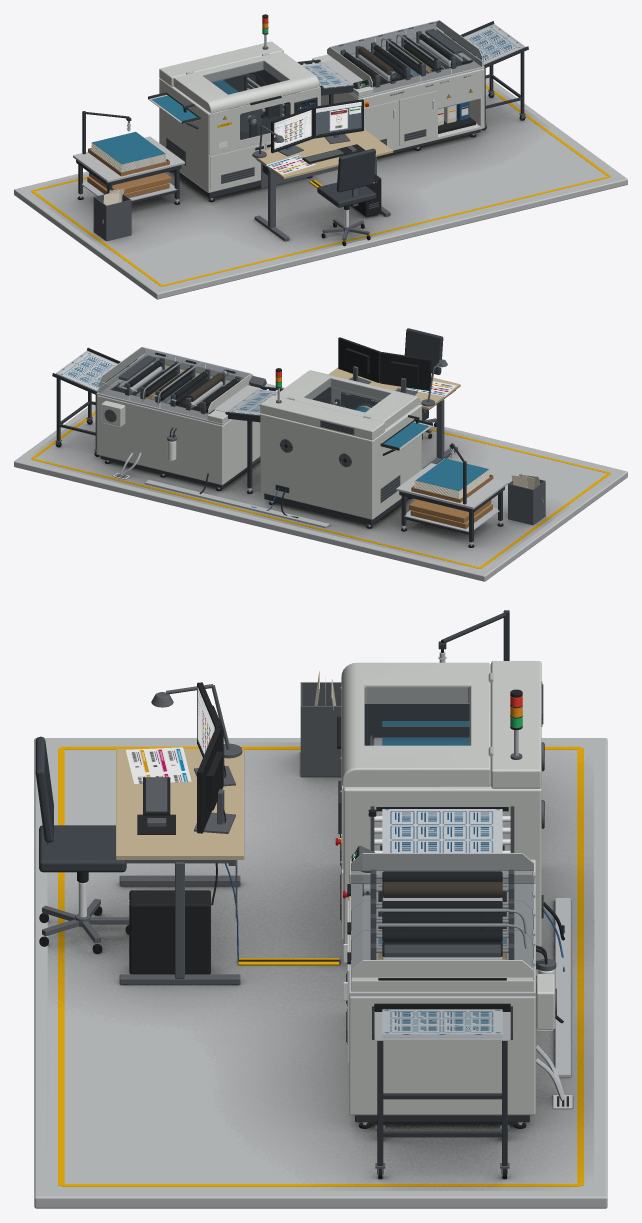
File: ctp.glb
3 views of the same model, one above another, from view 1: azimuth 30°, elevation 25°; view 2: azimuth 150°, elevation 25°; view 3: azimuth 270°, elevation 25° (orthographic). The views are drawn at different scales.
Visible parts, largest first — view 1: socle, developpeuse_polycarbonate_fume, graveur_capot, developpeuse_tole_gris_clair, dev_caisson, graveur_caisson, graveur_tole_gris_clair, graveur_polycarbonate_fume, poste_pao_graphite, graveur_tole_anthracite, graveur_facade, poste_pao_tissu_siege (+22 smaller); view 2: socle, graveur_caisson, dev_caisson, developpeuse_polycarbonate_fume, graveur_capot, poste_pao_plastique_noir, graveur_tole_gris_clair, developpeuse_tole_gris_clair, graveur_tole_anthracite, poste_pao_graphite, chargement_carton_emballage, graveur_polycarbonate_fume (+20 smaller); view 3: socle, developpeuse_polycarbonate_fume, dev_caisson, graveur_capot, developpeuse_tole_gris_clair, poste_pao_plastique_noir, poste_pao_graphite, bureau_plateau, graveur_caisson, graveur_polycarbonate_fume, graveur_tole_gris_clair, passerelle_plaque (+19 smaller).
Part boxes in pixels (x1,y1,x2,y2): socle: (14, 78, 627, 299); developpeuse_polycarbonate_fume: (328, 20, 481, 92); graveur_capot: (173, 51, 319, 113); developpeuse_tole_gris_clair: (312, 20, 482, 148); dev_caisson: (321, 68, 484, 150); graveur_caisson: (159, 78, 320, 192); graveur_tole_gris_clair: (159, 41, 283, 189); graveur_polycarbonate_fume: (203, 60, 289, 139); poste_pao_graphite: (253, 125, 390, 241); graveur_tole_anthracite: (148, 70, 317, 198); graveur_facade: (209, 87, 320, 154); poste_pao_tissu_siege: (317, 148, 376, 207); socle: (14, 357, 627, 581); graveur_caisson: (260, 404, 421, 519); dev_caisson: (96, 395, 260, 484); developpeuse_polycarbonate_fume: (99, 347, 250, 419); graveur_capot: (275, 370, 420, 428); poste_pao_plastique_noir: (338, 337, 431, 399); graveur_tole_gris_clair: (260, 395, 384, 440); developpeuse_tole_gris_clair: (98, 347, 268, 426); graveur_tole_anthracite: (264, 387, 432, 525); poste_pao_graphite: (341, 359, 457, 468); chargement_carton_emballage: (409, 474, 493, 528); graveur_polycarbonate_fume: (304, 378, 390, 411); socle: (34, 738, 607, 1208); developpeuse_polycarbonate_fume: (351, 854, 533, 980); dev_caisson: (349, 996, 535, 1115); graveur_capot: (341, 662, 490, 786); developpeuse_tole_gris_clair: (347, 853, 555, 1062); poste_pao_plastique_noir: (77, 682, 339, 974); poste_pao_graphite: (42, 684, 242, 984); bureau_plateau: (116, 749, 244, 859); graveur_caisson: (343, 785, 541, 946); graveur_polycarbonate_fume: (364, 685, 470, 745); graveur_tole_gris_clair: (341, 661, 541, 938); passerelle_plaque: (382, 809, 502, 852).
Bounding box in the file's own units: 5.6 × 1.59 × 2.95.
44 materials, 7 textured.
